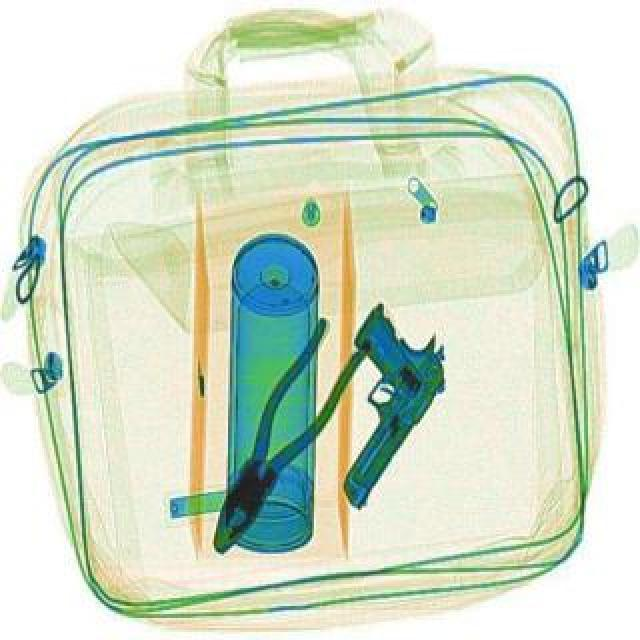gun: (270, 296, 470, 508)
wrench: (186, 312, 374, 564)
